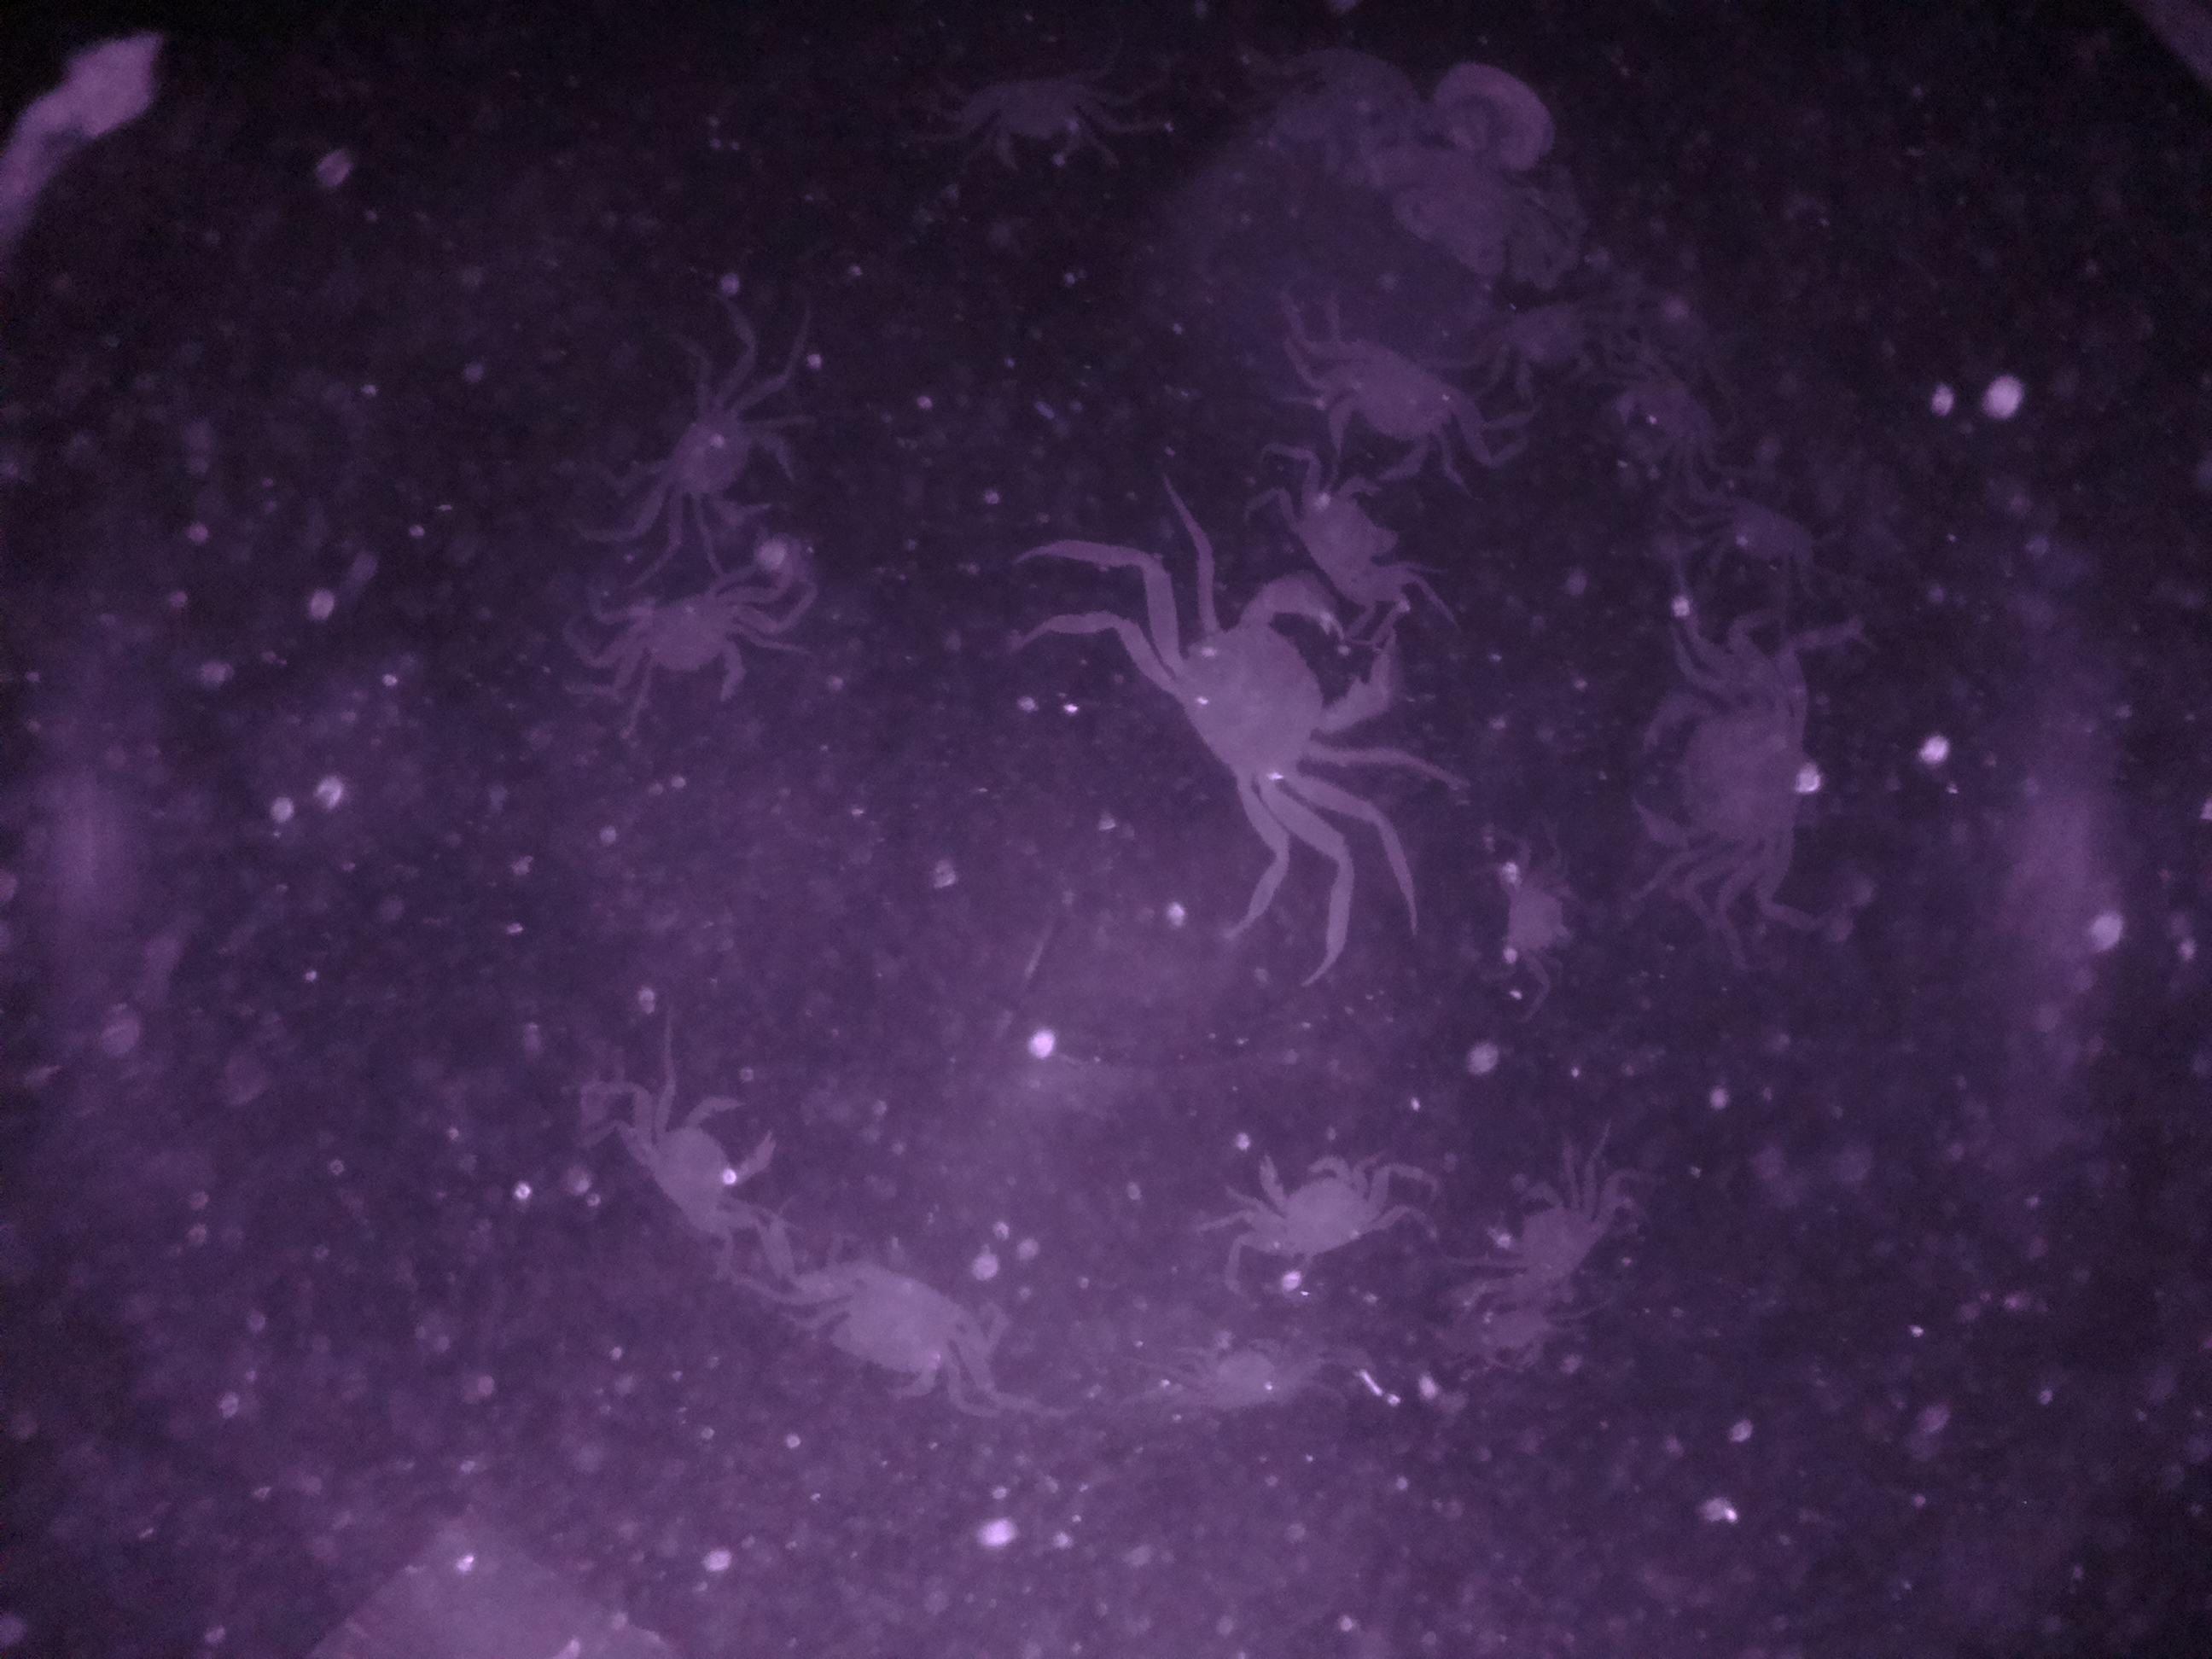Crab: (1134, 566, 1418, 831), (1587, 660, 1839, 885), (622, 1072, 794, 1276), (1301, 326, 1487, 500), (585, 577, 773, 730), (646, 371, 808, 544), (1231, 1138, 1395, 1262)
